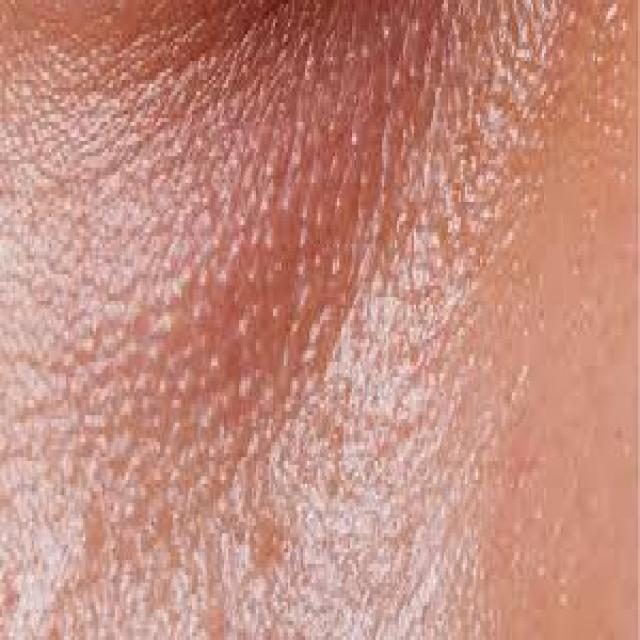oily: (25, 42, 493, 546)
